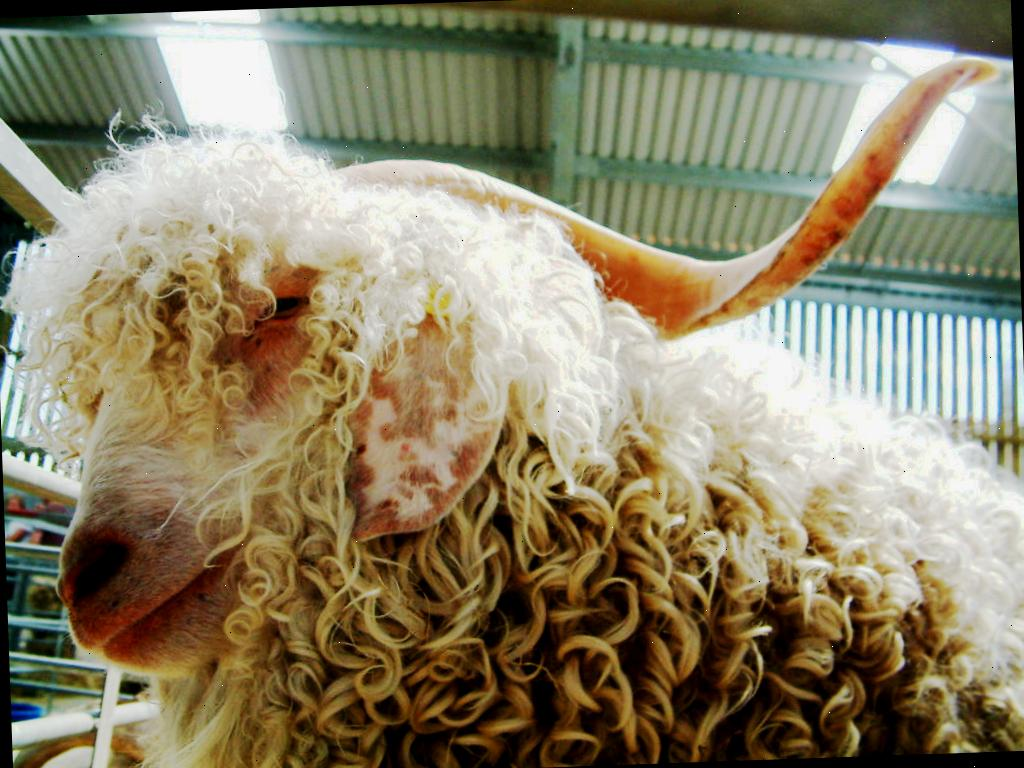Sheep: (28, 58, 1024, 754)
